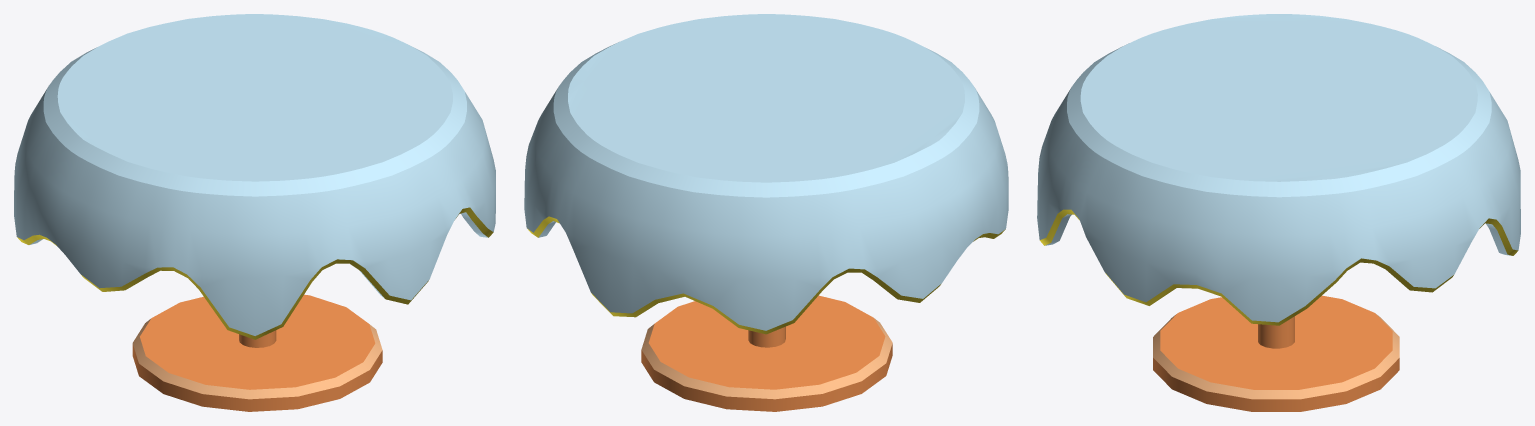
The model's file is RoundTable2.fbx.
3 renders of one model, left to right at view 1: azimuth 30°, elevation 25°; view 2: azimuth 150°, elevation 25°; view 3: azimuth 270°, elevation 25°, orthographic.
Parts seen in each view (by area): view 1: RoundTable2_LOD0; view 2: RoundTable2_LOD0; view 3: RoundTable2_LOD0.
Boxes of the visible parts, bbox=[...] form: RoundTable2_LOD0: bbox=[14, 14, 495, 411]; RoundTable2_LOD0: bbox=[524, 14, 1008, 411]; RoundTable2_LOD0: bbox=[1037, 14, 1520, 411].
Size of what is drawn, in the model's own units: 438 by 262 by 438.
